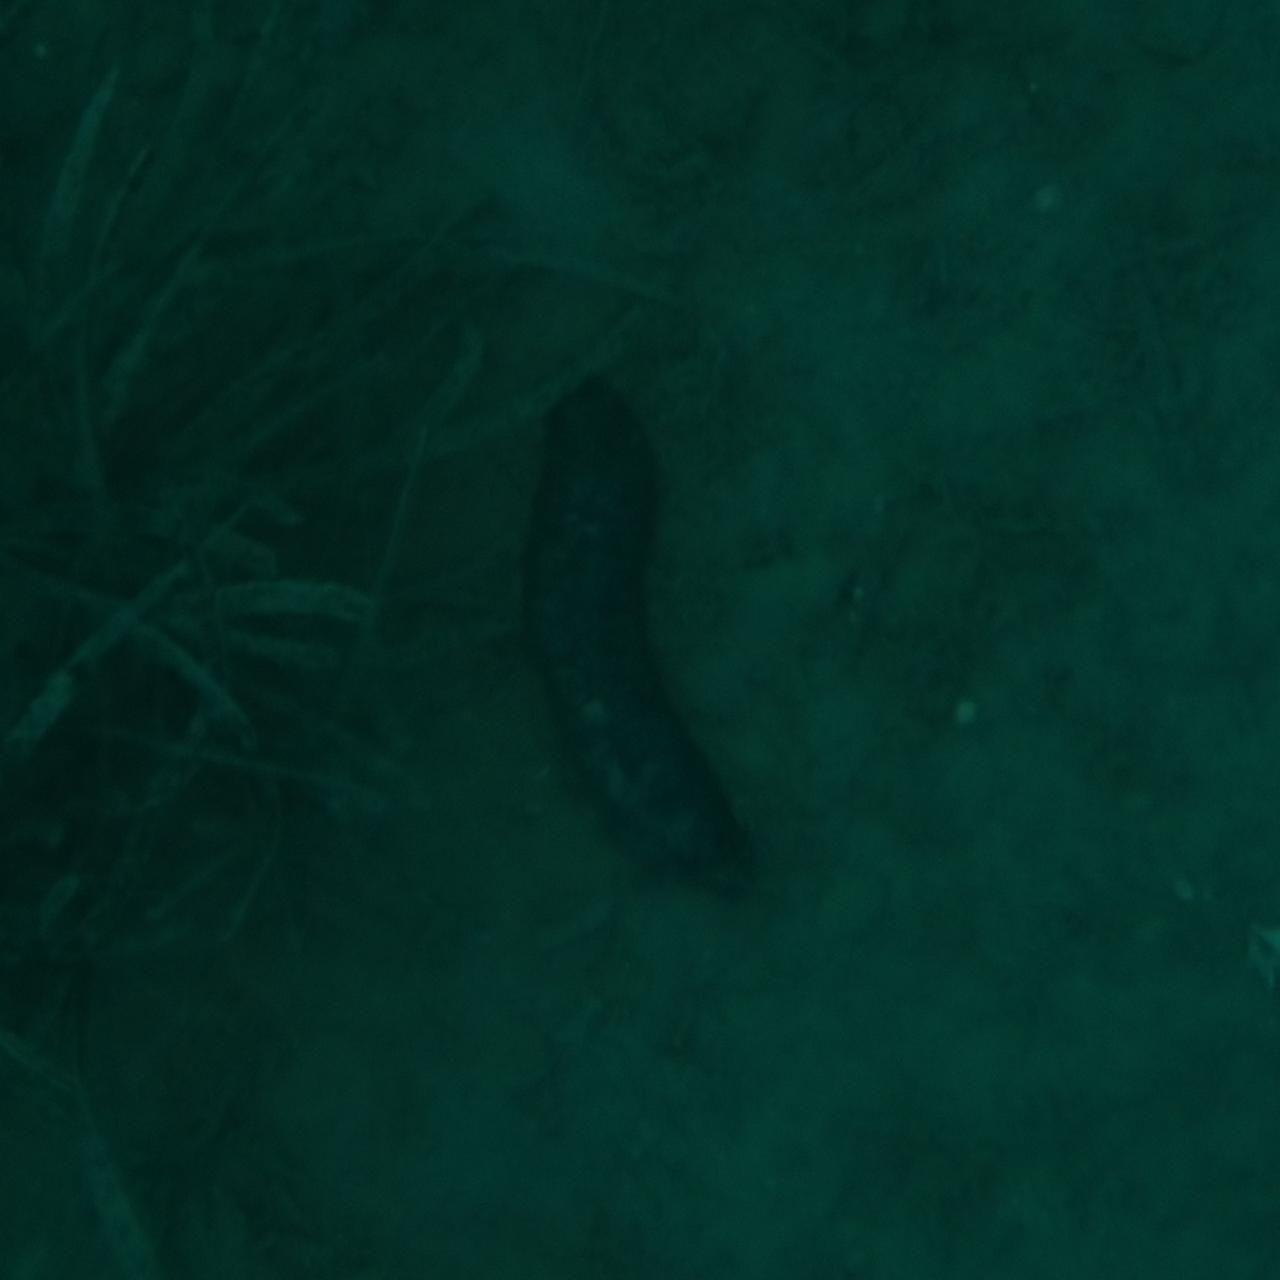Holothuria tubulosa: (503, 370, 777, 910)
